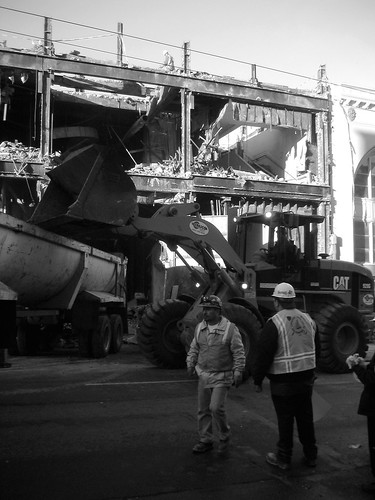person hardhat: (258, 280, 323, 473), (180, 293, 244, 460)
